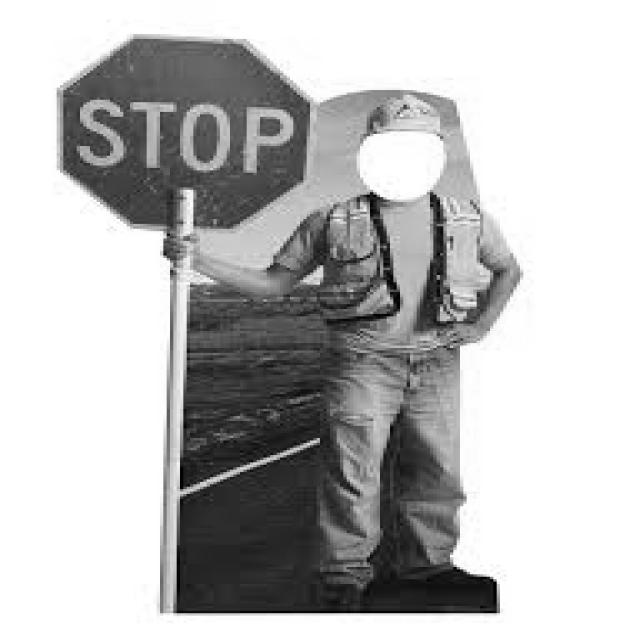stop sign: (55, 31, 311, 233)
